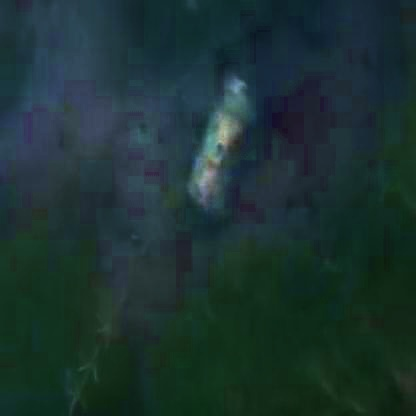can: (176, 65, 259, 228)
